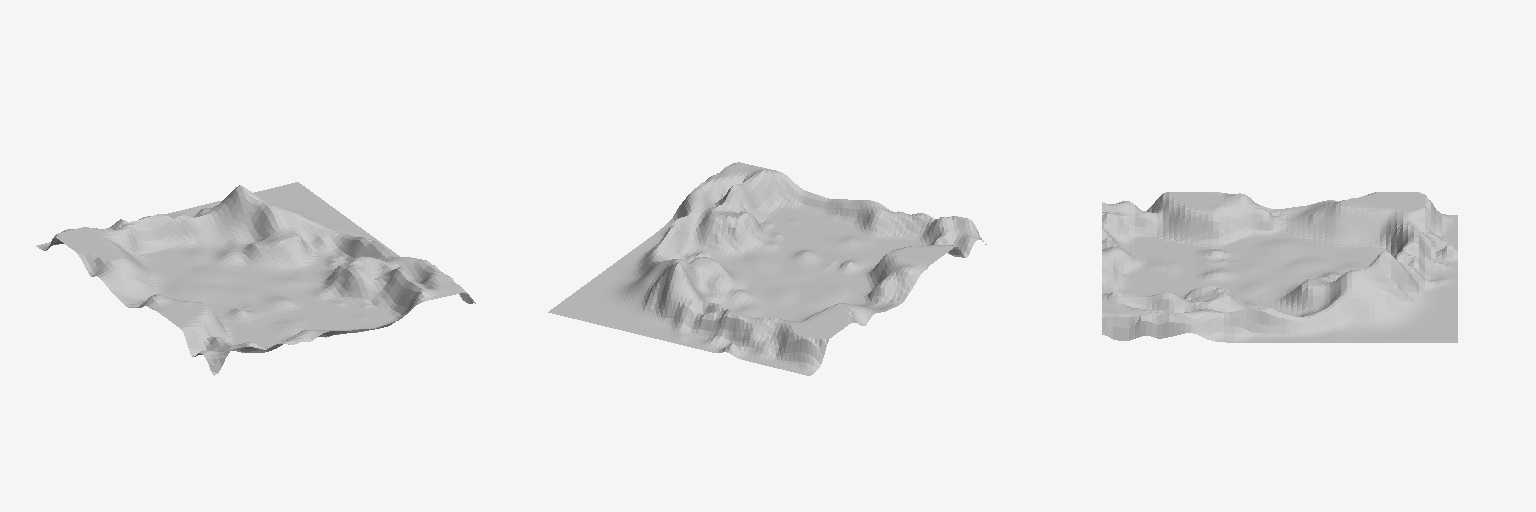
Rendered from k1 terrein.obj.
The picture shows the model from 3 angles: view 1: azimuth 30°, elevation 25°; view 2: azimuth 150°, elevation 25°; view 3: azimuth 270°, elevation 25°; orthographic projection.
Bounding box in the file's own units: 850 × 143 × 1000.